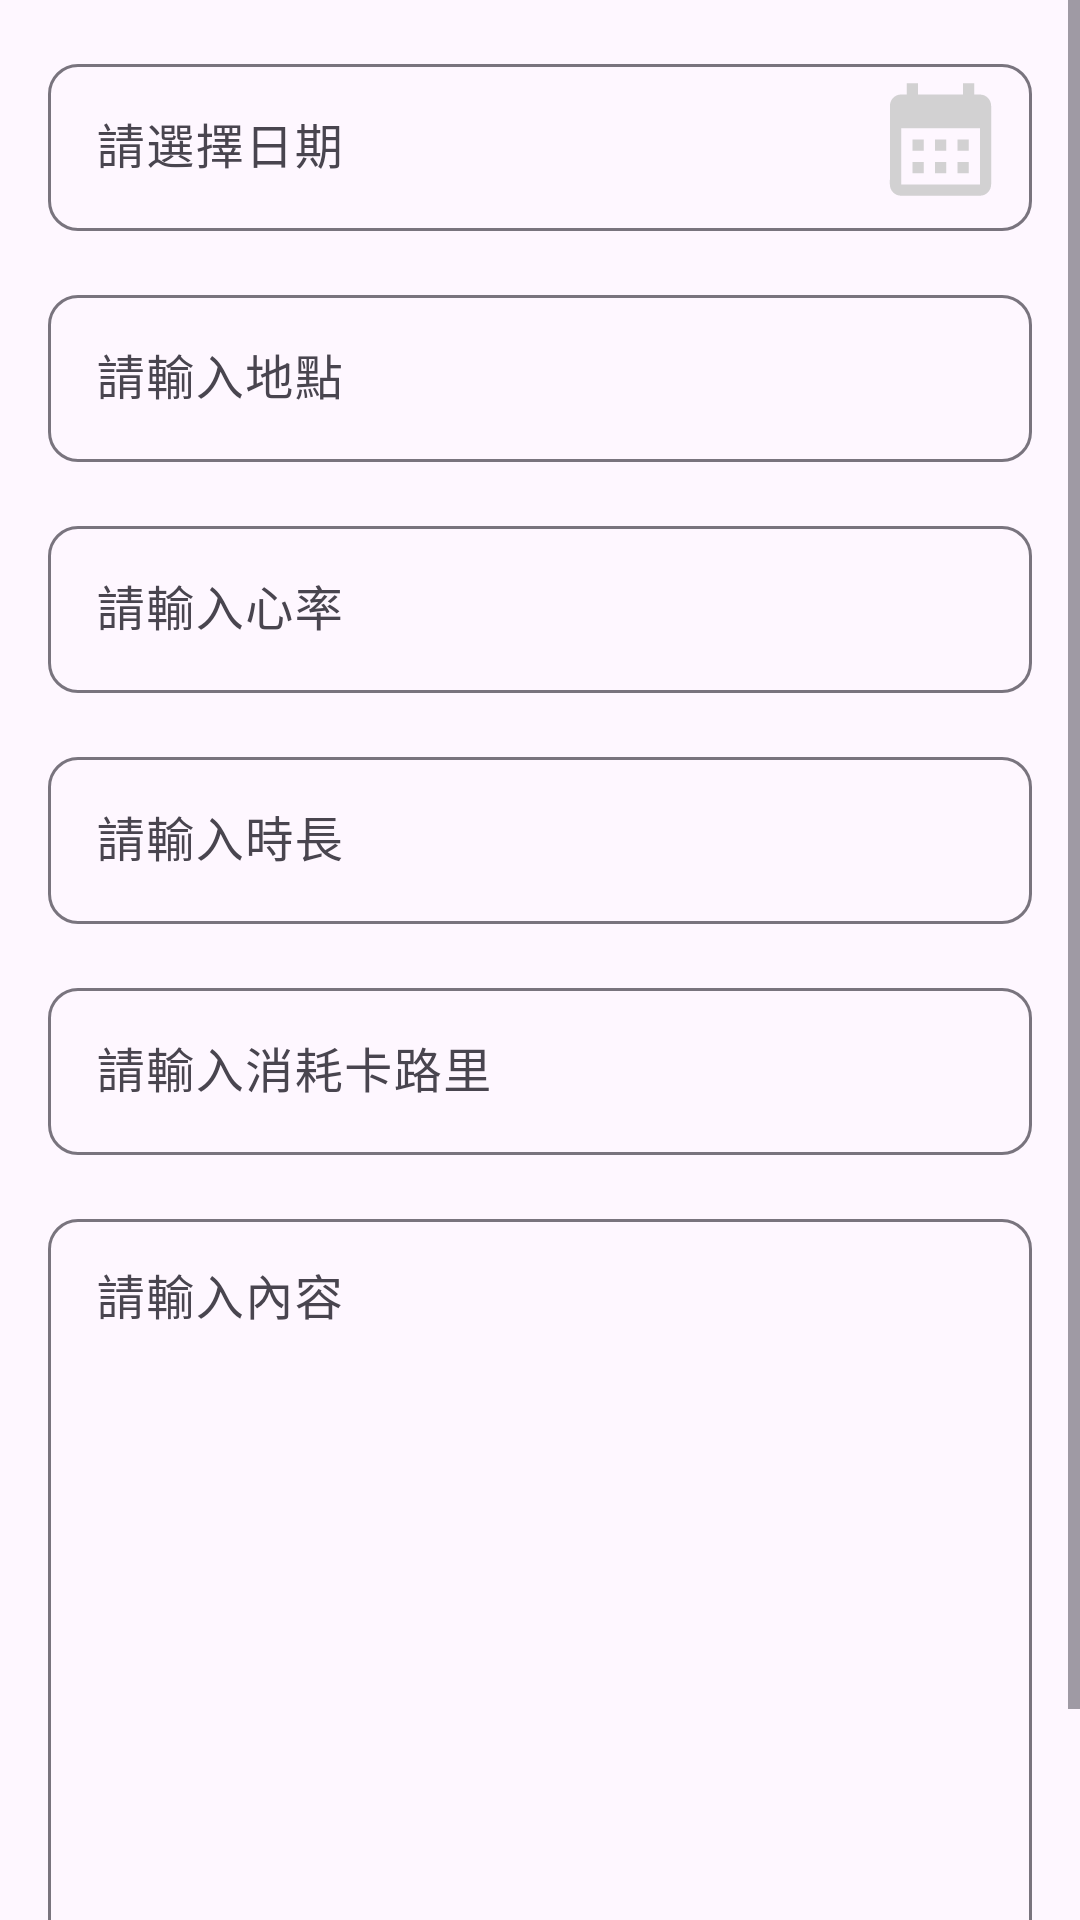

Icons on this 1080px x 1920px Android screen, each with its box as [x1, y1, x2, y2]:
calendar month: [890, 83, 991, 196]
